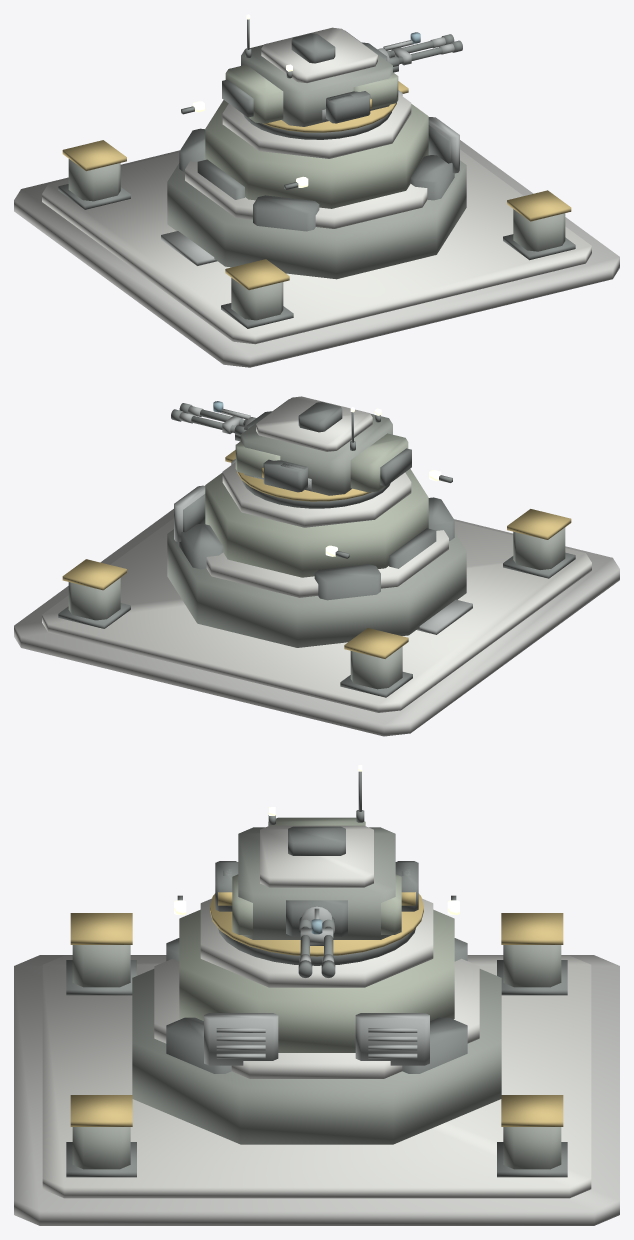
Rendered from aegis_guardian_turret_v031.glb.
3 views of the same model, one above another, from view 1: azimuth 30°, elevation 25°; view 2: azimuth 150°, elevation 25°; view 3: azimuth 270°, elevation 25° (orthographic). The views are drawn at different scales.
Visible parts, largest first — view 1: foundation_upper, foundation_lower, lower_hull, upper_hull, turret_core, turret_deck, belt_armor, turret_top_armor, armor_buttress_3.93, rear_bustle, anchor_3.18_-3.18, anchor_-3.18_3.18 (+19 smaller); view 2: foundation_upper, foundation_lower, lower_hull, upper_hull, turret_core, turret_deck, belt_armor, turret_top_armor, armor_buttress_2.36, rear_bustle, anchor_3.18_3.18, anchor_-3.18_-3.18 (+19 smaller); view 3: foundation_upper, foundation_lower, lower_hull, upper_hull, turret_core, belt_armor, turret_deck, turret_top_armor, vent_collar_-1.12, vent_collar_1.12, race_accent, anchor_-3.18_-3.18 (+21 smaller).
Part boxes in pixels (box(x1,y1,x2,y2)): foundation_upper: box(42, 149, 591, 344); foundation_lower: box(14, 140, 619, 367); lower_hull: box(167, 160, 466, 279); upper_hull: box(205, 100, 428, 208); turret_core: box(241, 30, 392, 126); turret_deck: box(222, 93, 411, 158); belt_armor: box(185, 161, 427, 228); turret_top_armor: box(261, 27, 377, 82); armor_buttress_3.93: box(253, 195, 319, 231); rear_bustle: box(225, 64, 283, 123); anchor_3.18_-3.18: box(513, 209, 565, 251); anchor_-3.18_3.18: box(68, 159, 120, 201); foundation_upper: box(42, 518, 591, 712); foundation_lower: box(14, 509, 619, 736); lower_hull: box(167, 529, 466, 647); upper_hull: box(205, 469, 428, 577); turret_core: box(241, 399, 392, 495); turret_deck: box(222, 462, 411, 527); belt_armor: box(206, 530, 448, 597); turret_top_armor: box(256, 396, 372, 451); armor_buttress_2.36: box(314, 564, 380, 600); rear_bustle: box(350, 433, 408, 492); anchor_3.18_3.18: box(68, 578, 120, 620); anchor_-3.18_-3.18: box(513, 527, 565, 569); foundation_upper: box(42, 955, 591, 1198); foundation_lower: box(14, 955, 619, 1225); lower_hull: box(132, 969, 501, 1144); upper_hull: box(179, 909, 454, 1052); turret_core: box(238, 827, 395, 939); belt_armor: box(154, 958, 479, 1078); turret_deck: box(200, 898, 433, 987); turret_top_armor: box(260, 825, 373, 887); vent_collar_-1.12: box(204, 1013, 278, 1065); vent_collar_1.12: box(355, 1013, 429, 1065); race_accent: box(210, 893, 423, 956); anchor_-3.18_-3.18: box(72, 945, 130, 987).
Size of the model in its own units: 8.95 by 4.86 by 8.95.
